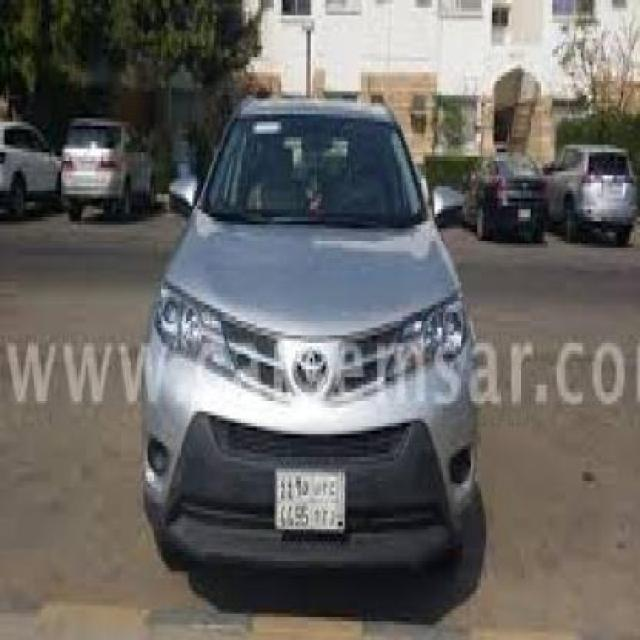license_plate: (272, 465, 348, 533)
